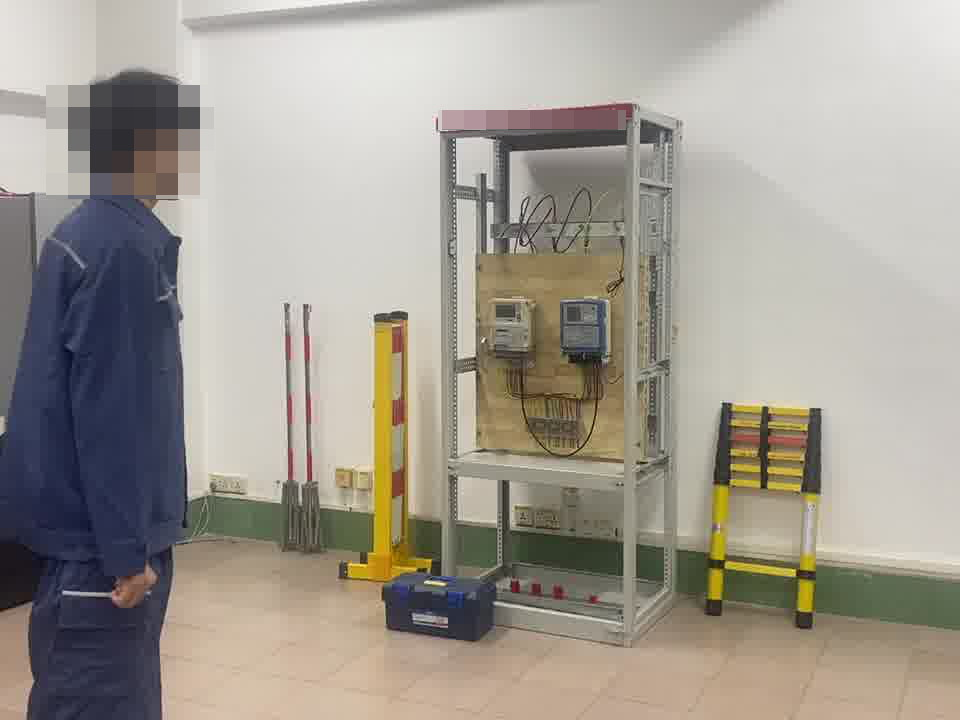downsuit: (13, 563, 177, 720)
hand: (112, 564, 162, 611)
noear: (144, 126, 187, 192)
person: (1, 47, 213, 720)
unhalt: (71, 67, 212, 197)
upsuit: (1, 185, 194, 562)
